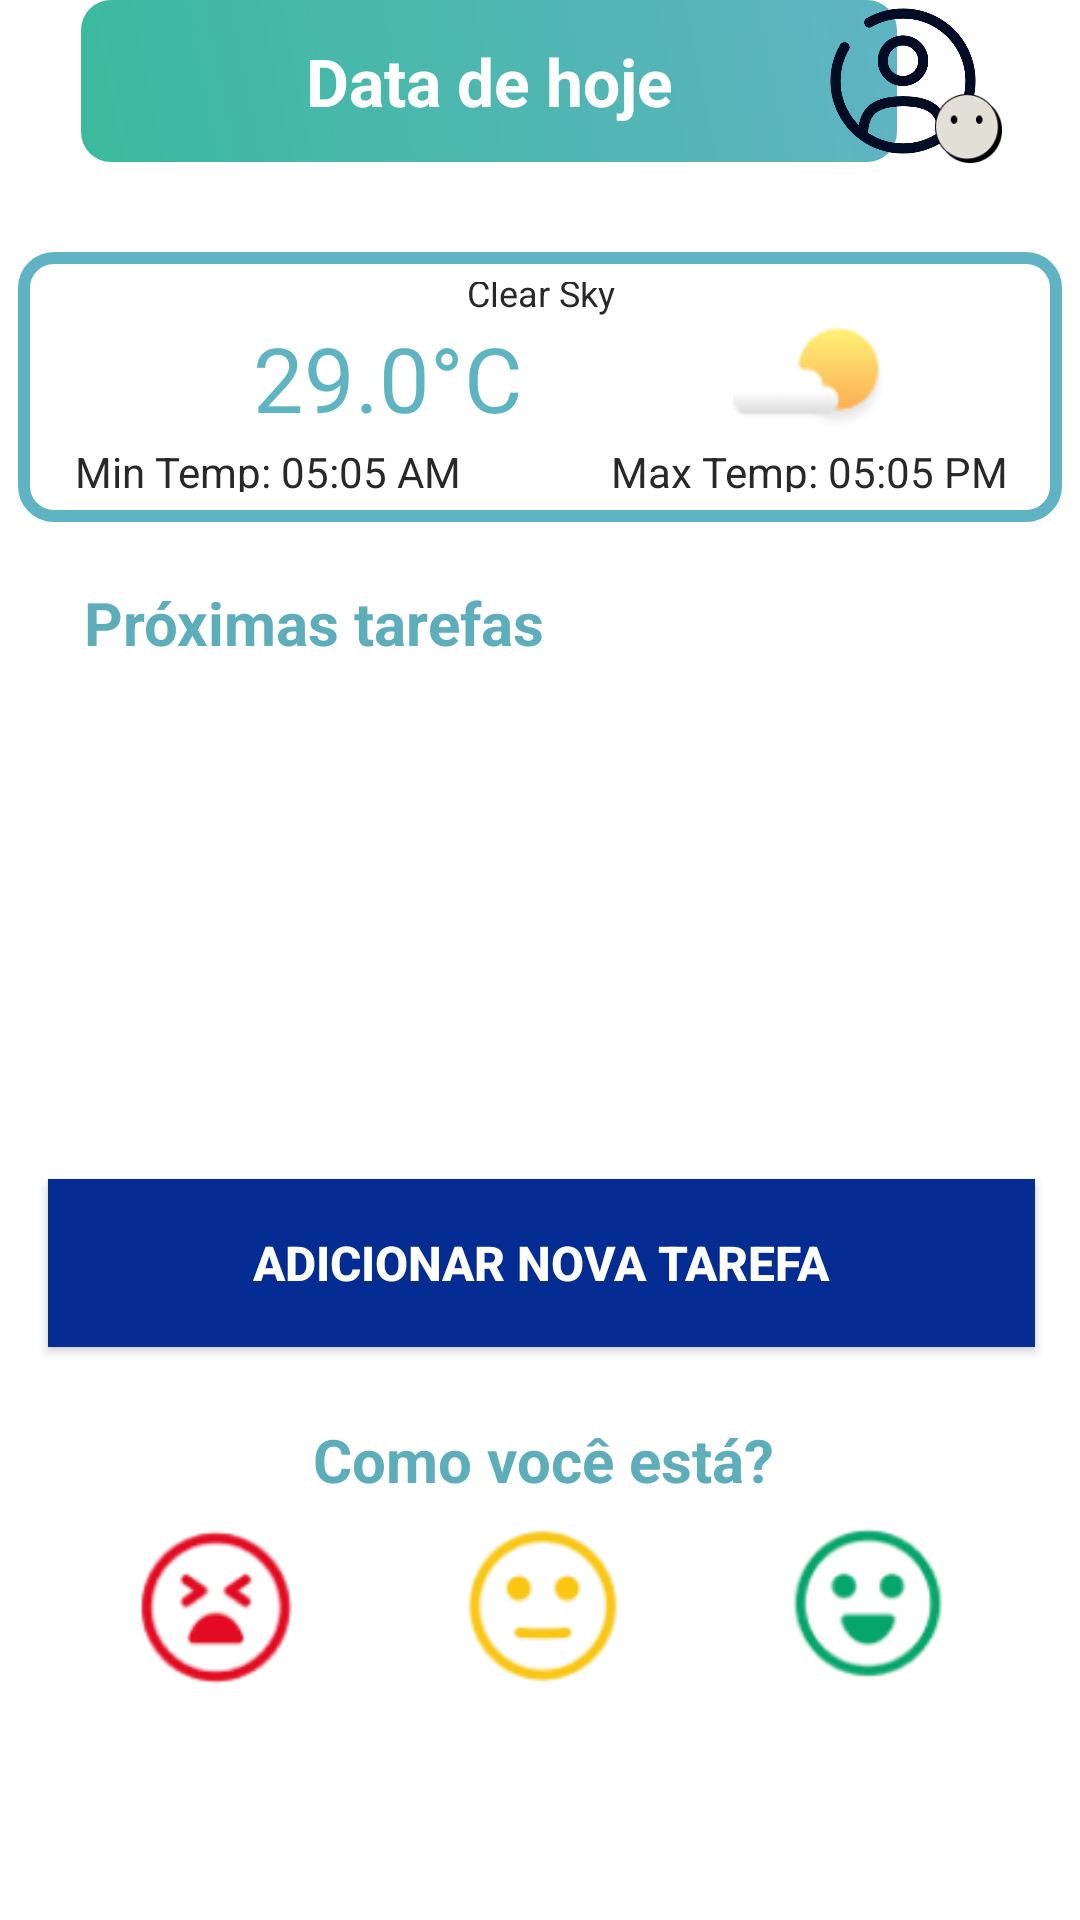

Locate icon controls on the screen. Image size 1080px×1920px, boxes as (x1, y1, x2, y2).
clima: (738, 328, 879, 414)
feliz: (794, 1529, 942, 1677)
mal: (141, 1531, 292, 1683)
